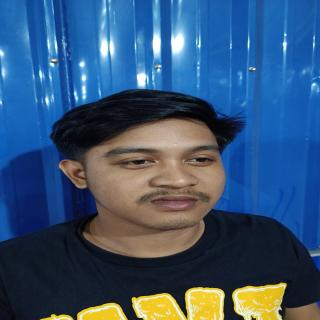Netral: (81, 109, 232, 234)
